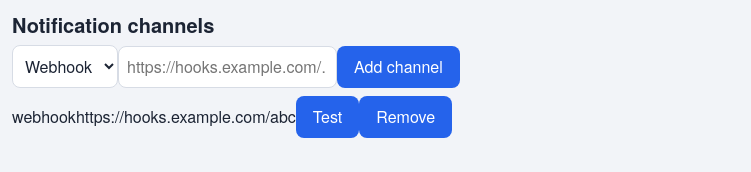
Test: NotificationChannelsCard › affiche le diagnostic d'un test en échec (statut HTTP de la cible)
Click the button "Test".
click(328, 117)  # box [296, 96, 359, 138]
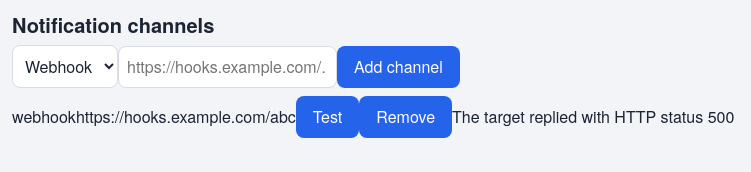
Expected: the message with test id "notification-channel-test-result" shows "500", [452, 105, 734, 128]
